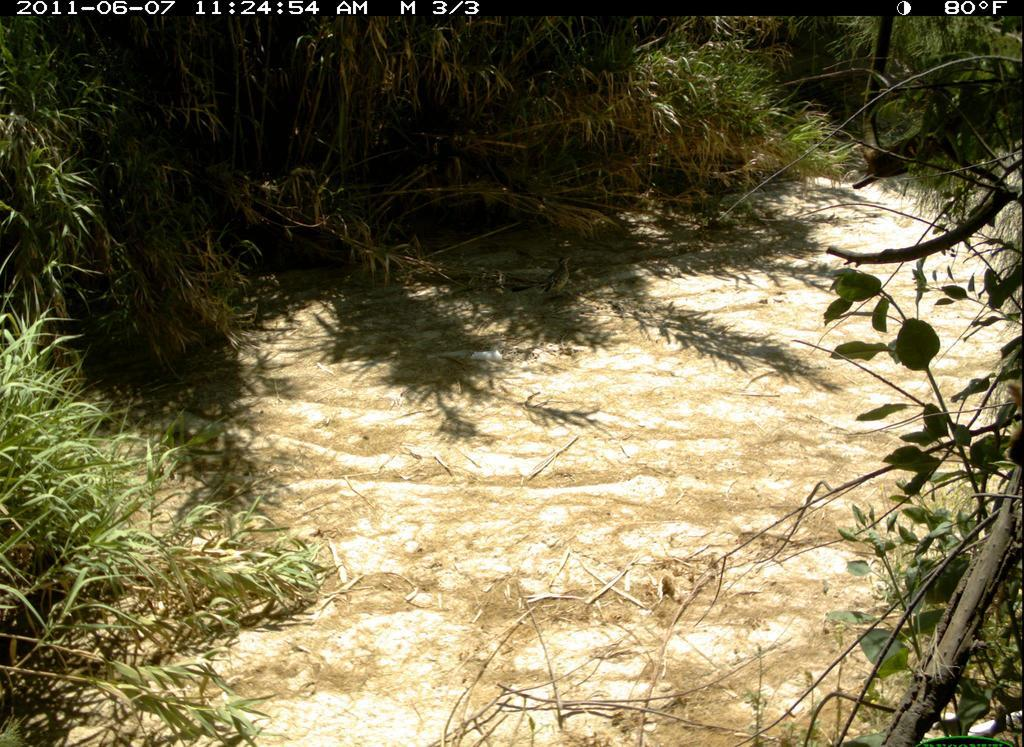bird: (511, 254, 575, 303)
